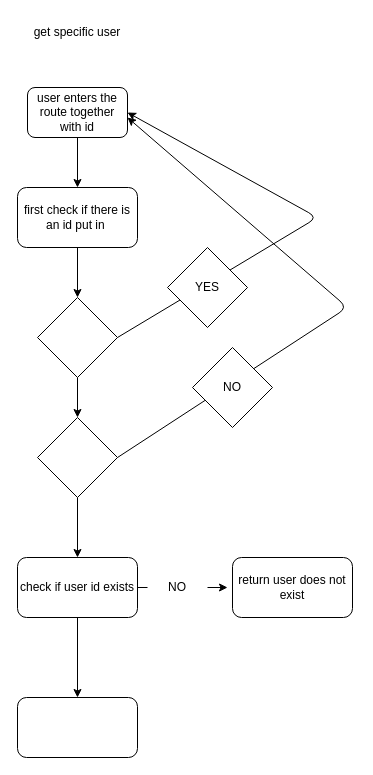
Image size: 373x775. Some labels were removed from this diagram. The centre of each missing label's shape, as x and y in pixels:
isString(): (x=77, y=457)
notEmpty(): (x=77, y=337)
then return user details: (x=77, y=727)
